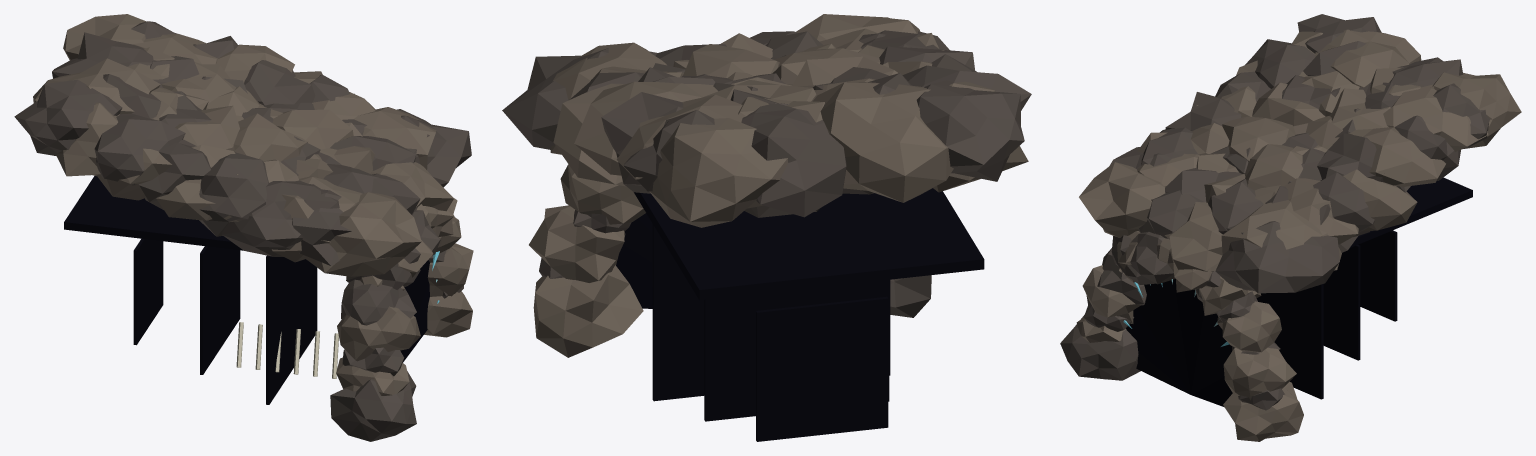
Rendered from coast_glasswyrm_cavern.glb.
3 views of the same model, side by side, from view 1: azimuth 30°, elevation 25°; view 2: azimuth 150°, elevation 25°; view 3: azimuth 270°, elevation 25° (orthographic). The views are drawn at different scales.
Parts seen in each view (by area): view 1: geometry_0; view 2: geometry_0; view 3: geometry_0.
Boxes of the visible parts, <box> form: geometry_0: <box>14,14,473,441</box>; geometry_0: <box>502,14,1031,441</box>; geometry_0: <box>1060,14,1521,441</box>.
Bounding box in the file's own units: 55.67 × 39.43 × 59.53.
